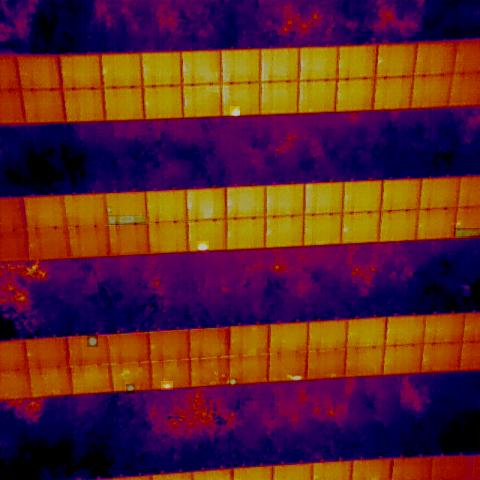fault: (108, 215, 146, 225), (454, 228, 480, 237), (285, 372, 305, 382), (87, 335, 98, 347), (197, 242, 209, 253), (161, 381, 173, 390), (230, 106, 240, 116), (126, 384, 135, 394), (229, 378, 238, 385), (106, 206, 112, 213)
